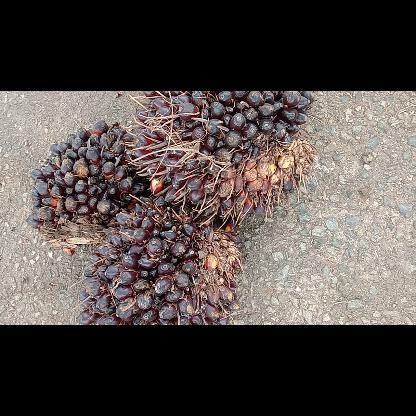TBS mentah: (134, 91, 312, 217), (76, 196, 240, 324), (27, 118, 144, 248)
